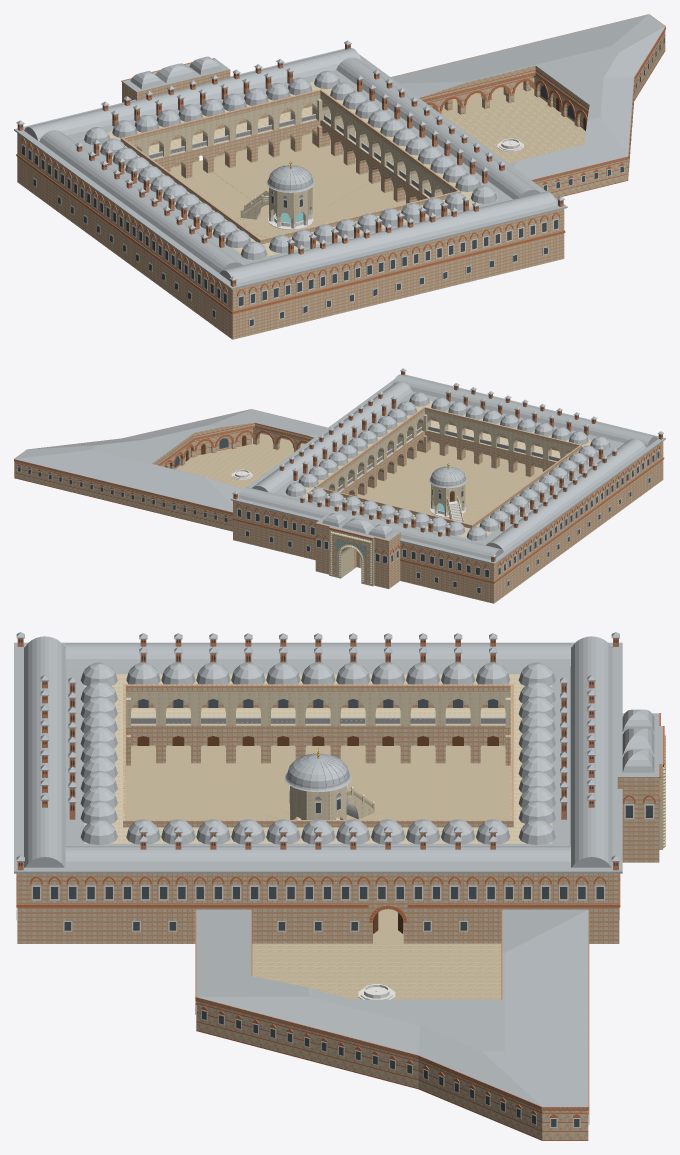
File: koza-han_v17.glb
3 renders of one model, top to bottom at view 1: azimuth 30°, elevation 25°; view 2: azimuth 150°, elevation 25°; view 3: azimuth 270°, elevation 25°, orthographic. The views are drawn at different scales.
Visible parts, largest first — view 1: Cati, Govde_Dis, Ic_Koza, Avlu_Zemin, Revak_Kubbeleri, Avlu_Revak, Cephe, Mescit, Portal; view 2: Cati, Ic_Koza, Govde_Dis, Avlu_Zemin, Revak_Kubbeleri, Avlu_Revak, Portal, Cephe, Mescit; view 3: Cati, Ic_Koza, Govde_Dis, Avlu_Zemin, Avlu_Revak, Revak_Kubbeleri, Cephe, Portal, Mescit.
Boxes of the visible parts, x1,y1,x2,y2 form: Cati: (14,40,567,289); Govde_Dis: (17,70,564,339); Ic_Koza: (391,14,665,198); Avlu_Zemin: (170,77,585,238); Revak_Kubbeleri: (84,70,497,259); Avlu_Revak: (83,81,498,260); Cephe: (16,96,565,326); Mescit: (240,161,314,229); Portal: (121,56,230,102); Cati: (230,368,665,564); Ic_Koza: (14,409,327,531); Govde_Dis: (233,391,663,603); Avlu_Zemin: (175,433,542,524); Revak_Kubbeleri: (285,392,610,540); Avlu_Revak: (285,400,611,541); Portal: (315,513,400,588); Cephe: (232,445,664,593); Mescit: (429,463,467,522); Cati: (14,632,622,873); Ic_Koza: (195,909,589,1140); Govde_Dis: (17,666,619,943); Avlu_Zemin: (126,745,510,999); Avlu_Revak: (84,674,552,843); Revak_Kubbeleri: (80,662,555,844); Cephe: (16,785,660,931); Portal: (617,709,665,862); Mescit: (284,747,374,819).
Bounding box in the file's own units: 120 × 13.15 × 77.99.
Materials: 29 (14 with a texture image).
